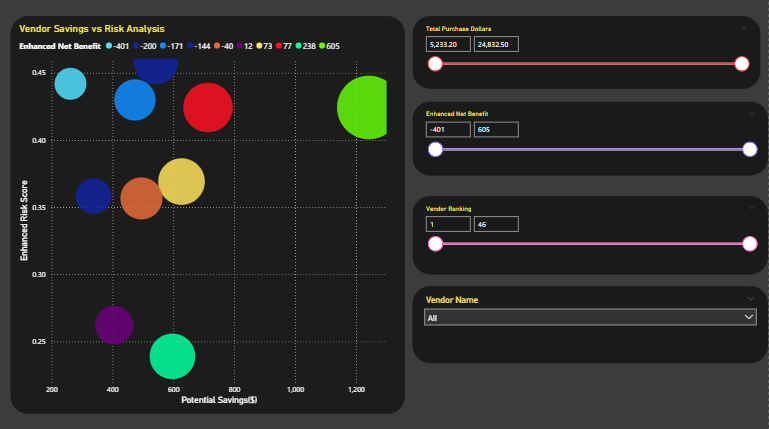

What the dashboard file says about the page in this screenshot:
{"tool":"powerbi","page":{"name":"Page 2","canvas":[1280,720],"ordinal":1},"visuals":[{"type":"scatterChart","title":"Vendor Savings vs Risk Analysis","fields":{"X":["Sum(top_vendors.PotentialSavings)"],"Y":["Sum(top_vendors.EnhancedRiskScore)"],"Size":["Sum(top_vendors.TotalPurchaseDollars)"],"Series":["top_vendors.EnhancedNetBenefit"]},"box":[16.7,28.8,657.2,663.2],"z":0},{"type":"slicer","fields":{"Values":["top_vendors.VendorName"]},"box":[687.5,480.3,592.8,129],"z":1000},{"type":"slicer","fields":{"Values":["top_vendors.VendorRanking"]},"box":[687.5,329.4,592.8,130.4],"z":2000},{"type":"slicer","fields":{"Values":["top_vendors.TotalPurchaseDollars"]},"box":[687.4,30.3,579.9,121.1],"z":3000},{"type":"slicer","fields":{"Values":["top_vendors.EnhancedNetBenefit"]},"box":[687.5,172.9,592.8,123.5],"z":4000}]}

Visuals, with their boxes in screenshot pixels (x1, y1, x2, y2), scaled from the page's 1280x720 canvas onto the 769x429 screenshot:
"Vendor Savings vs Risk Analysis" scatterChart: 10 17 405 412
slicer - top_vendors.VendorName: 413 286 768 363
slicer - top_vendors.VendorRanking: 413 196 768 274
slicer - top_vendors.TotalPurchaseDollars: 413 18 761 90
slicer - top_vendors.EnhancedNetBenefit: 413 103 768 177
